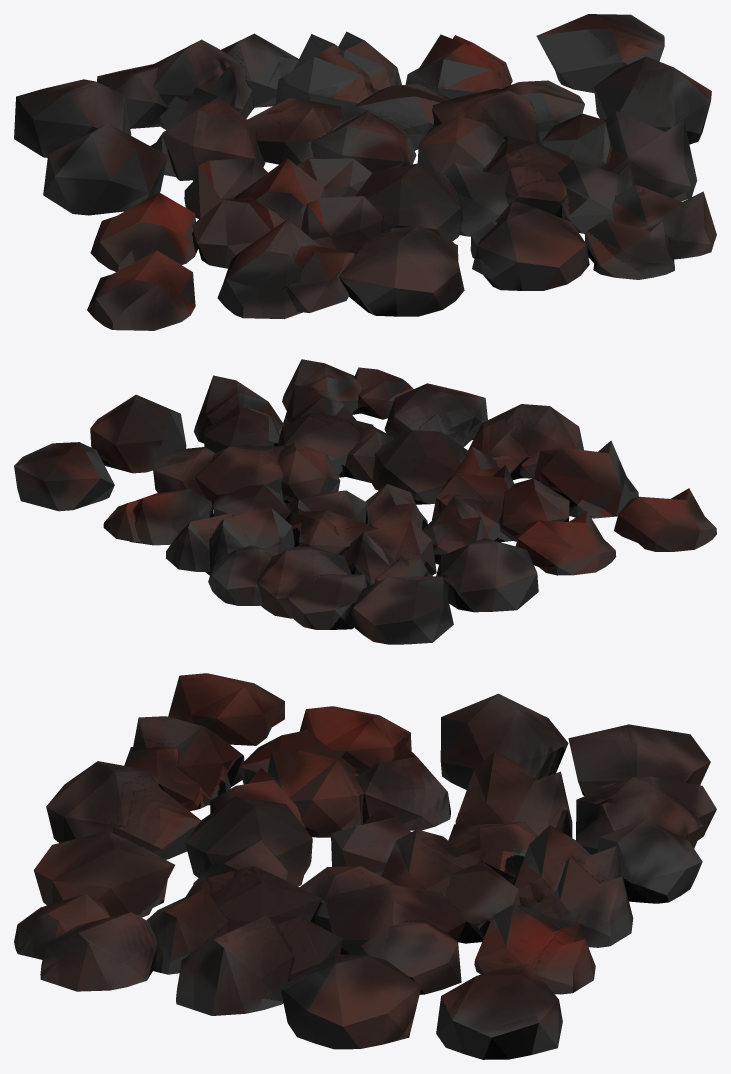
The model's file is Coals.fbx.
The picture shows the model from 3 angles, top to bottom: view 1: azimuth 30°, elevation 25°; view 2: azimuth 150°, elevation 25°; view 3: azimuth 270°, elevation 25°; orthographic projection. The views are drawn at different scales.
Parts seen in each view (by area): view 1: CoalBed; view 2: CoalBed; view 3: CoalBed.
Boxes of the visible parts, x1=… form: CoalBed: x1=14, y1=14, x2=716, y2=330; CoalBed: x1=14, y1=359, x2=716, y2=644; CoalBed: x1=14, y1=673, x2=716, y2=1059.
Bounding box in the file's own units: 13.31 × 1.23 × 10.79.
